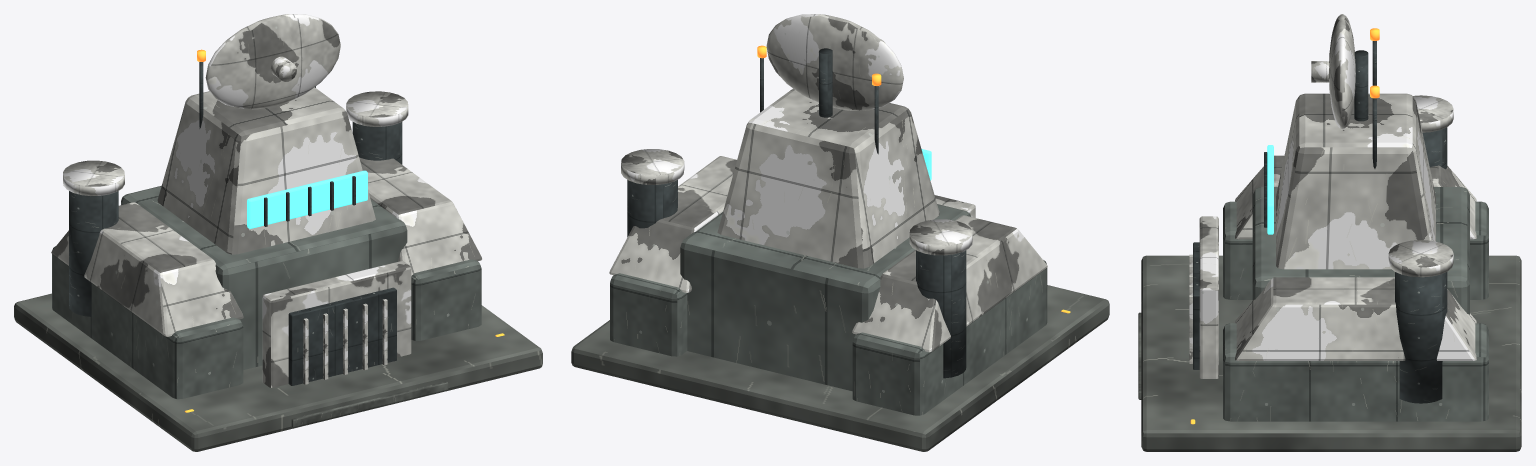
The picture shows the model from 3 angles, left to right: view 1: azimuth 30°, elevation 25°; view 2: azimuth 150°, elevation 25°; view 3: azimuth 270°, elevation 25°; orthographic projection. The views are drawn at different scales.
Visible parts, largest first — view 1: hq_team_primary, hq_factory_metal, hq_concrete_dark, hq_armor_dark, hq_team_accent, hq_glass_emissive; view 2: hq_team_primary, hq_factory_metal, hq_concrete_dark, hq_armor_dark, hq_team_accent; view 3: hq_team_primary, hq_concrete_dark, hq_factory_metal, hq_armor_dark, hq_team_accent, hq_glass_emissive.
Part boxes in pixels (x1,y1,x2,y2): hq_team_primary: (51,14,481,387); hq_factory_metal: (52,186,481,399); hq_concrete_dark: (14,293,542,451); hq_armor_dark: (69,62,402,385); hq_team_accent: (63,56,408,384); hq_glass_emissive: (247,170,367,228); hq_team_primary: (609,14,1047,352); hq_factory_metal: (610,204,1047,415); hq_concrete_dark: (571,285,1109,451); hq_armor_dark: (627,48,966,378); hq_team_accent: (621,149,972,255); hq_team_primary: (1199,14,1476,378); hq_concrete_dark: (1138,255,1521,451); hq_factory_metal: (1223,187,1488,421); hq_armor_dark: (1193,41,1447,403); hq_team_accent: (1189,61,1453,363); hq_glass_emissive: (1267,145,1273,234).
Bounding box in the file's own units: 7.8 × 6.9 × 7.06.
7 materials, 5 textured.
